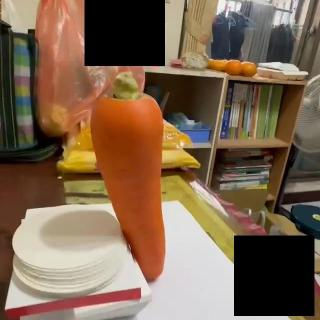carrot: (89, 71, 167, 283)
